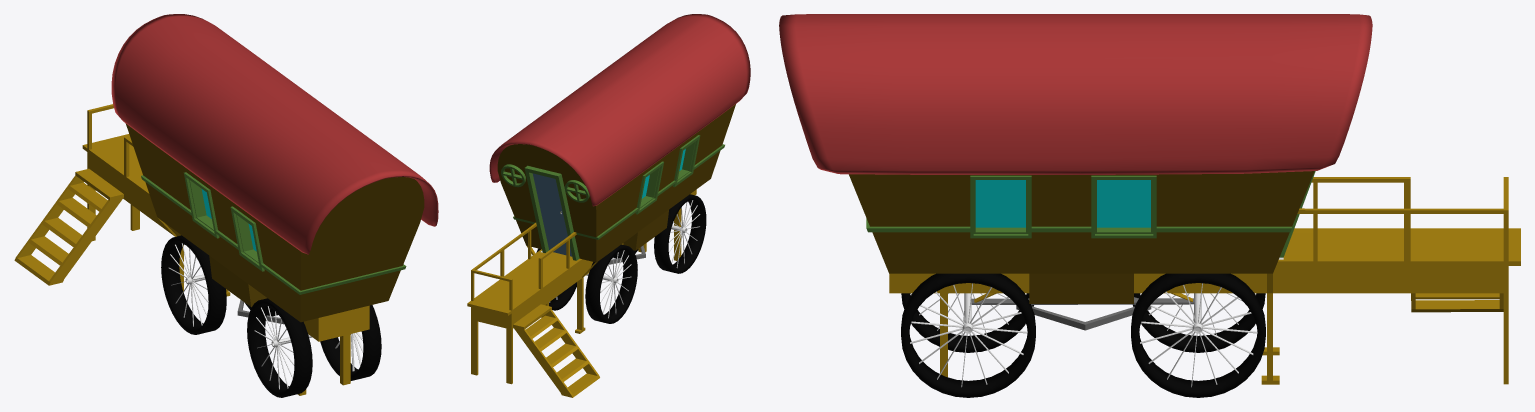
Rendered from Trailer.fbx.
3 renders of one model, left to right at view 1: azimuth 30°, elevation 25°; view 2: azimuth 150°, elevation 25°; view 3: azimuth 270°, elevation 25°, orthographic. The views are drawn at different scales.
Parts seen in each view (by area): view 1: Trailer; view 2: Trailer; view 3: Trailer.
Part boxes in pixels (x1,y1,x2,y2): Trailer: [14, 14, 438, 397]; Trailer: [467, 14, 750, 397]; Trailer: [779, 14, 1520, 397].
Bounding box in the file's own units: 4906 × 7302 × 14154.
